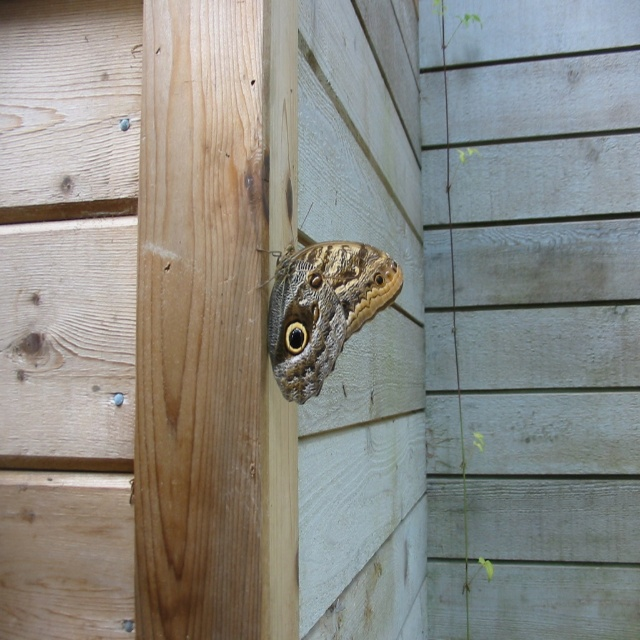Butterfly: (265, 228, 400, 404)
